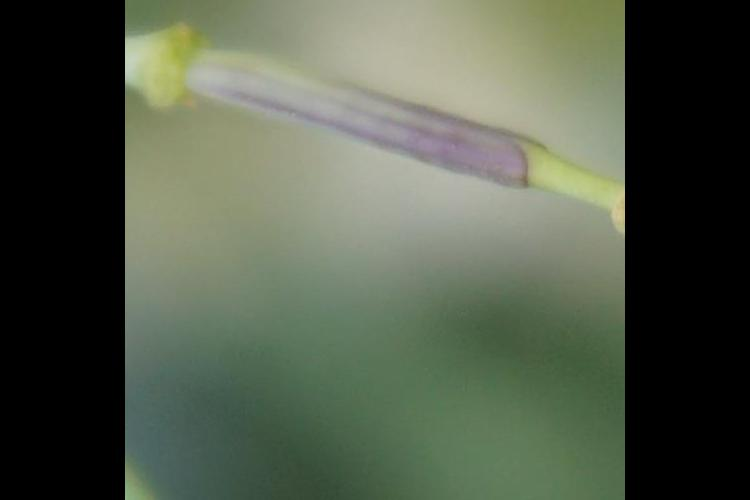pod: (153, 3, 625, 236)
